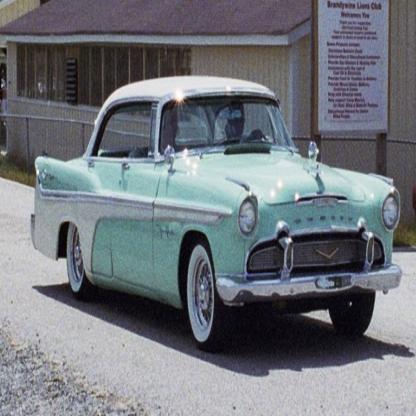Car: (34, 81, 402, 349)
